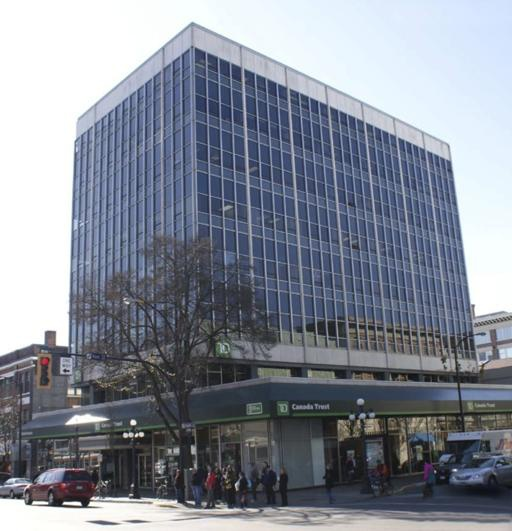non-vehicle: (367, 473, 393, 498), (96, 479, 112, 497)
